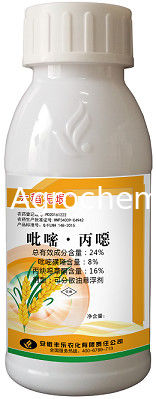Insecticide: (2, 1, 156, 399)
